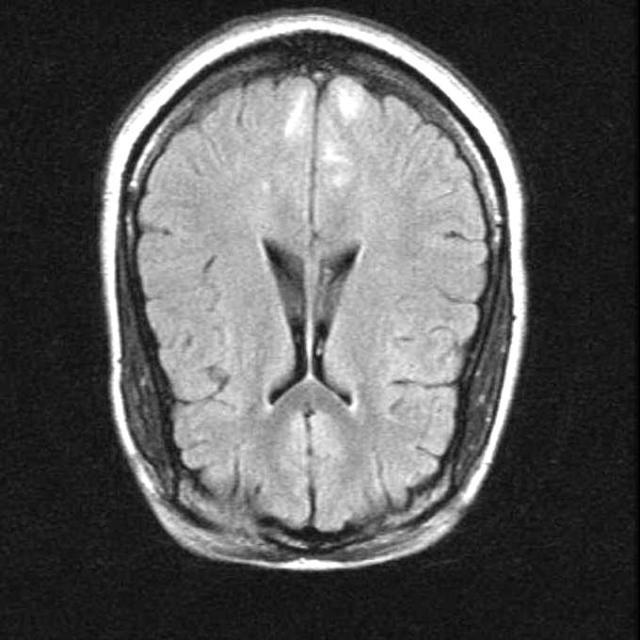notumor: (102, 11, 527, 570)
